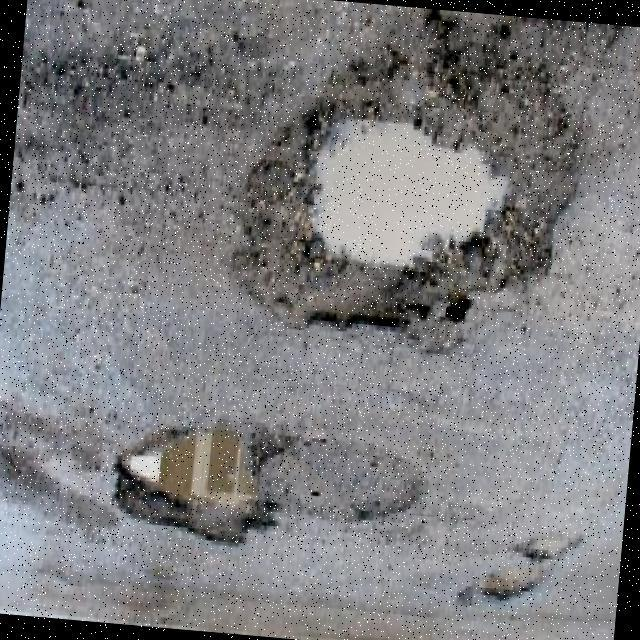Pothole: (247, 9, 624, 326), (114, 428, 285, 543), (449, 534, 587, 610)
